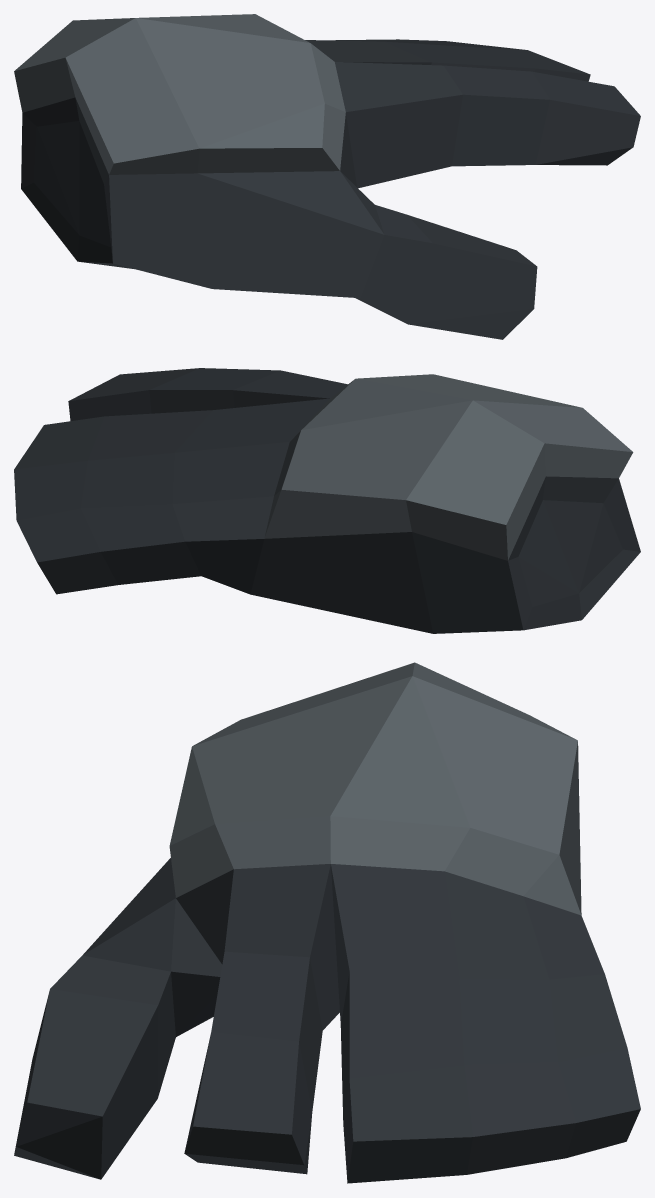
The model's file is Chr_HandLeft_Female_11_Static.fbx.
3 views of the same model, one above another, from view 1: azimuth 30°, elevation 25°; view 2: azimuth 150°, elevation 25°; view 3: azimuth 270°, elevation 25° (orthographic). The views are drawn at different scales.
Visible parts, largest first — view 1: Chr_HandLeft_Female_11_Static; view 2: Chr_HandLeft_Female_11_Static; view 3: Chr_HandLeft_Female_11_Static.
Boxes of the visible parts, box(x1,y1,x2,y2) form: Chr_HandLeft_Female_11_Static: box(14, 14, 640, 339); Chr_HandLeft_Female_11_Static: box(14, 368, 640, 633); Chr_HandLeft_Female_11_Static: box(14, 662, 640, 1183).
Size of the model in its own units: 0.237 by 0.1202 by 0.188.
